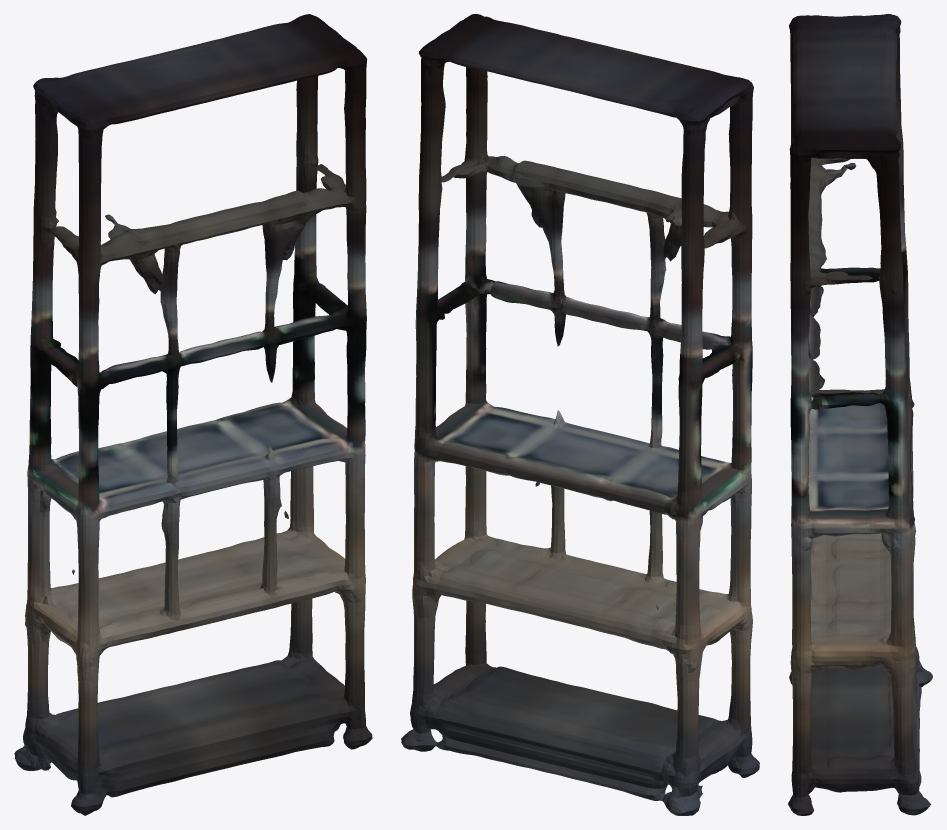
File: shelf-001.glb
3 renders of one model, left to right at view 1: azimuth 30°, elevation 25°; view 2: azimuth 150°, elevation 25°; view 3: azimuth 270°, elevation 25°, orthographic. The views are drawn at different scales.
Visible parts, largest first — view 1: geometry_0; view 2: geometry_0; view 3: geometry_0.
Part boxes in pixels (box(x1,y1,x2,y2)): geometry_0: box(14, 14, 372, 815); geometry_0: box(401, 14, 759, 815); geometry_0: box(788, 14, 932, 815).
Bounding box in the file's own units: 80 × 180 × 35.
